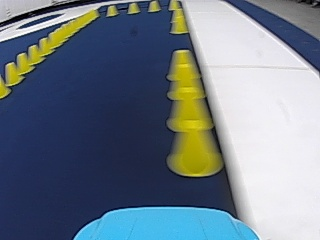cone: (167, 116, 224, 177), (168, 84, 215, 131), (165, 51, 201, 93), (168, 4, 187, 34), (4, 62, 19, 85), (15, 52, 29, 74), (26, 44, 40, 64), (37, 37, 50, 56), (0, 76, 10, 98), (127, 2, 139, 14), (148, 0, 160, 12), (106, 4, 118, 16), (168, 0, 180, 10)
